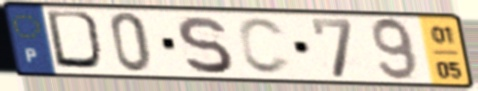0: (108, 11, 158, 76)
7: (308, 16, 357, 80)
9: (370, 16, 423, 85)
C: (235, 15, 295, 77)
D: (43, 8, 110, 74)
S: (174, 14, 236, 76)
